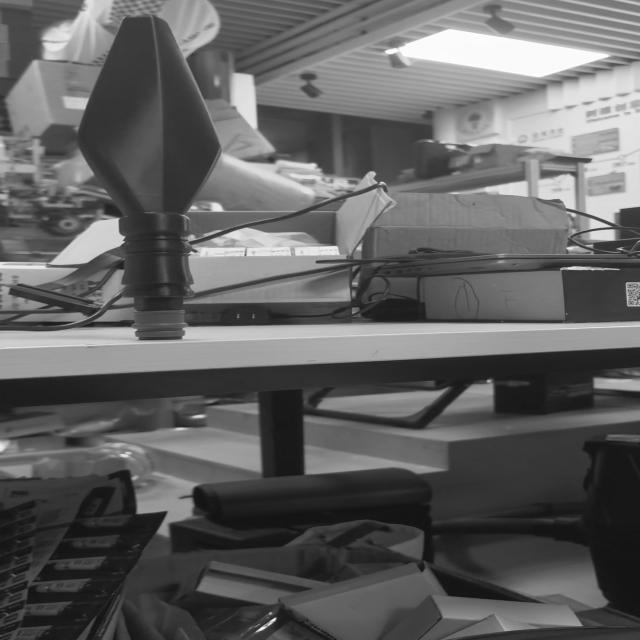base: (134, 310, 187, 339)
